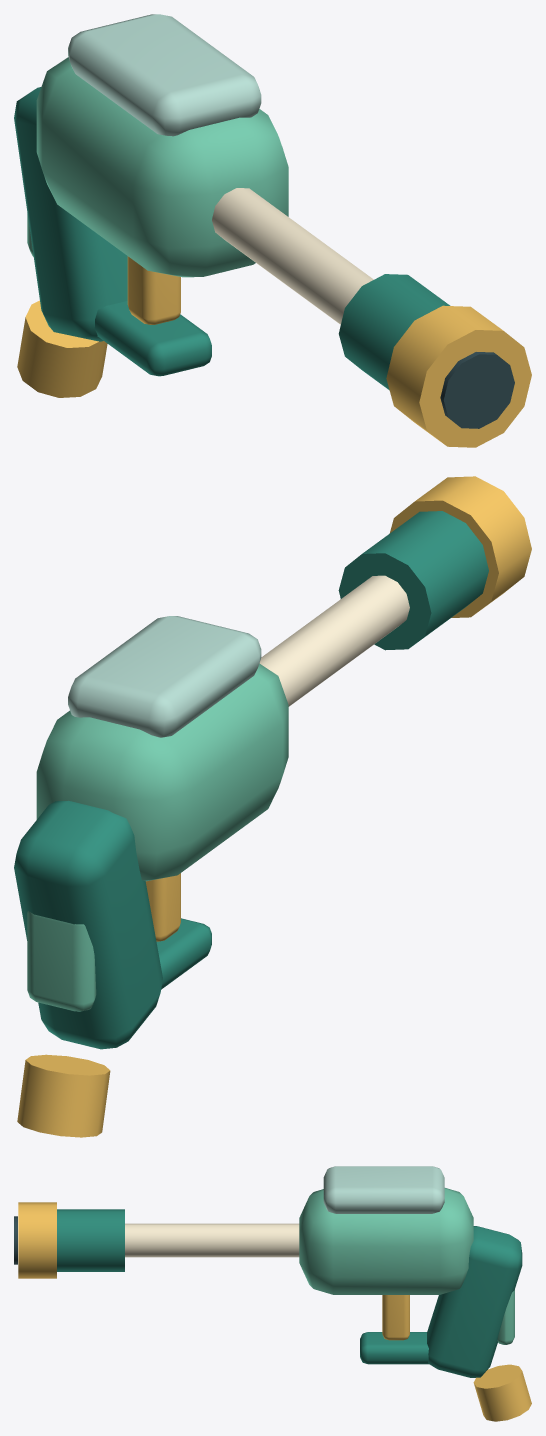
File: jet_spray.glb
3 views of the same model, one above another, from view 1: azimuth 30°, elevation 25°; view 2: azimuth 150°, elevation 25°; view 3: azimuth 270°, elevation 25° (orthographic). The views are drawn at different scales.
Visible parts, largest first — view 1: jet_spray; view 2: jet_spray; view 3: jet_spray.
Boxes of the visible parts, x1=… form: jet_spray: x1=14, y1=14, x2=531, y2=447; jet_spray: x1=14, y1=476, x2=531, y2=1137; jet_spray: x1=14, y1=1166, x2=531, y2=1421.
Size of the model in its own units: 0.21 by 0.5434 by 1.07.
1 material, 1 textured.
